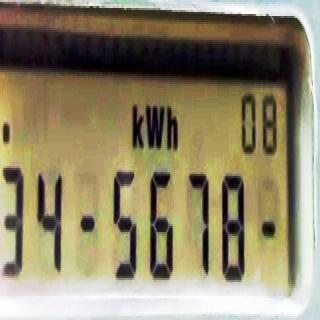-: (80, 205, 96, 247), (260, 213, 276, 247), (1, 115, 11, 146)
0: (240, 86, 257, 163)
3: (1, 158, 24, 295)
4: (36, 163, 65, 282)
5: (110, 158, 140, 293)
6: (147, 160, 176, 295)
7: (186, 165, 212, 280)
8: (219, 164, 246, 292), (262, 86, 278, 163)
